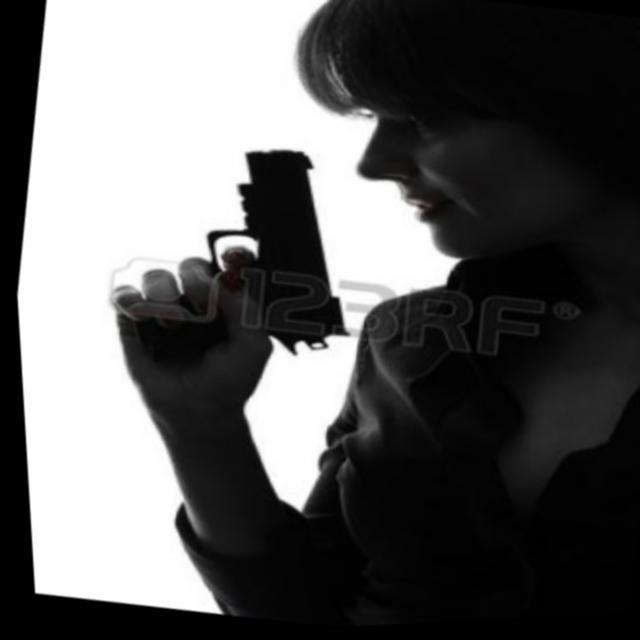weapon: (102, 118, 386, 408)
